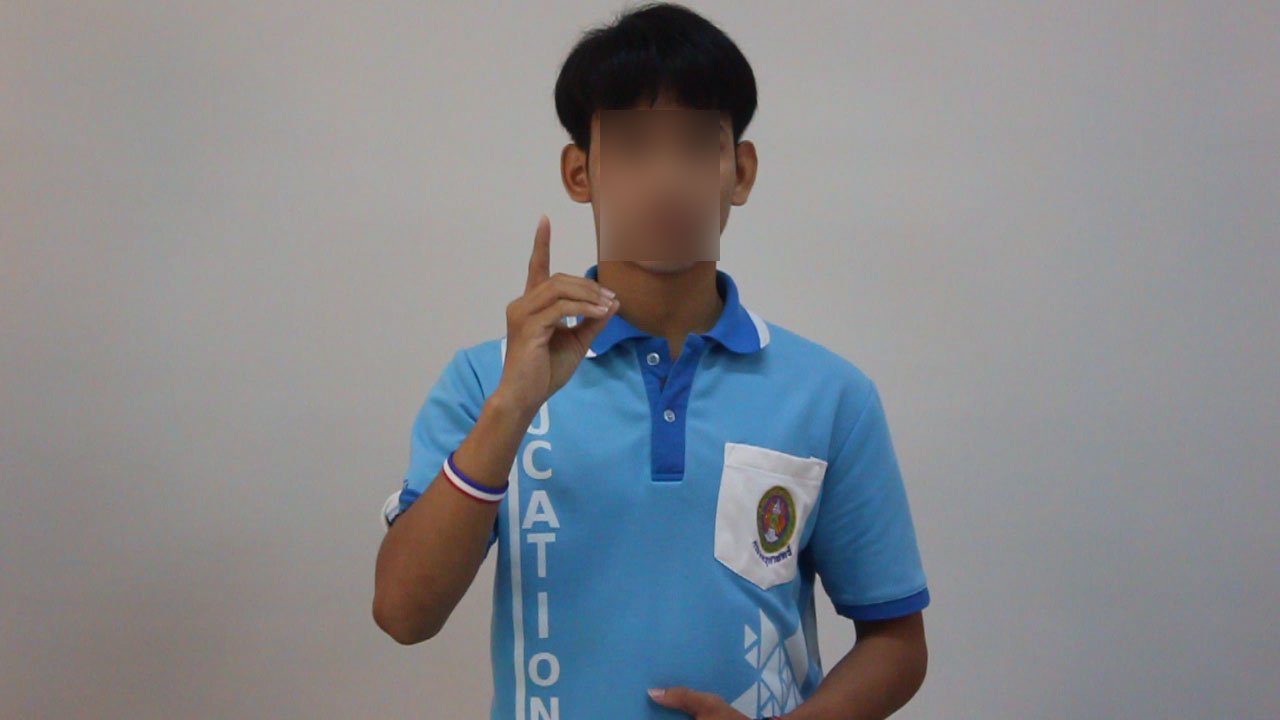dor: (483, 210, 623, 408)
